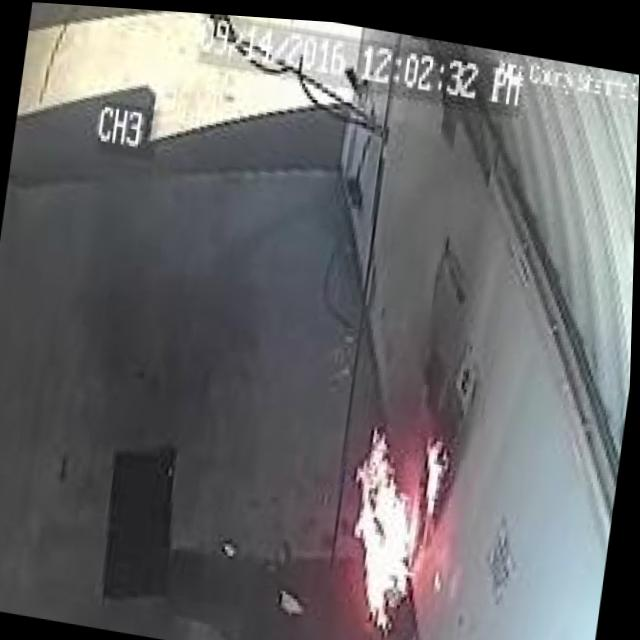fire: (336, 402, 470, 640)
